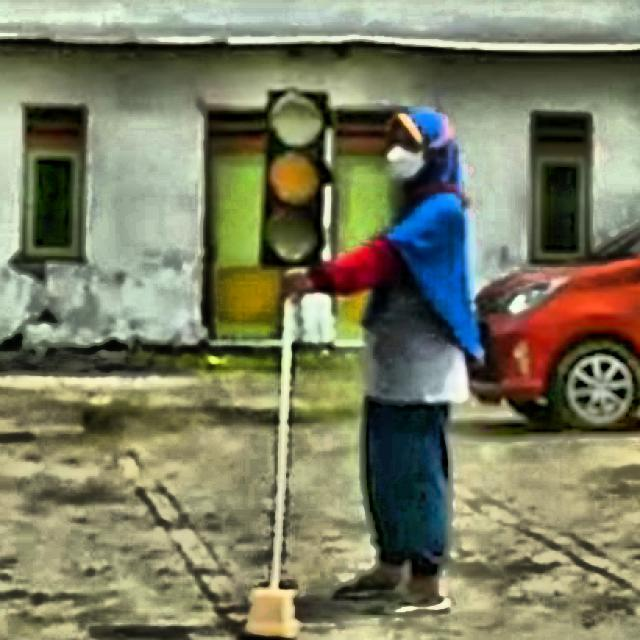yellow: (254, 89, 331, 270)
